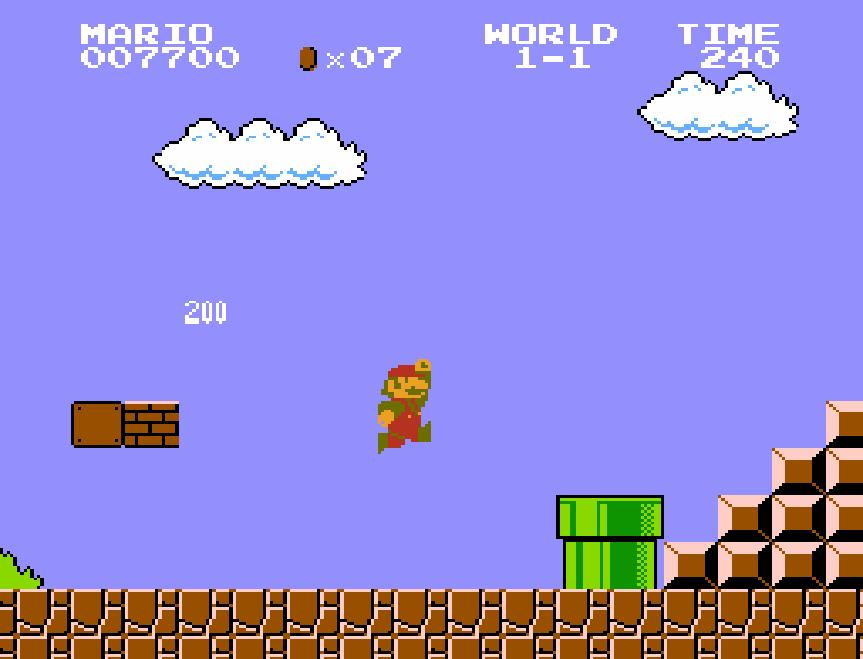big_mario: (376, 357, 434, 456)
